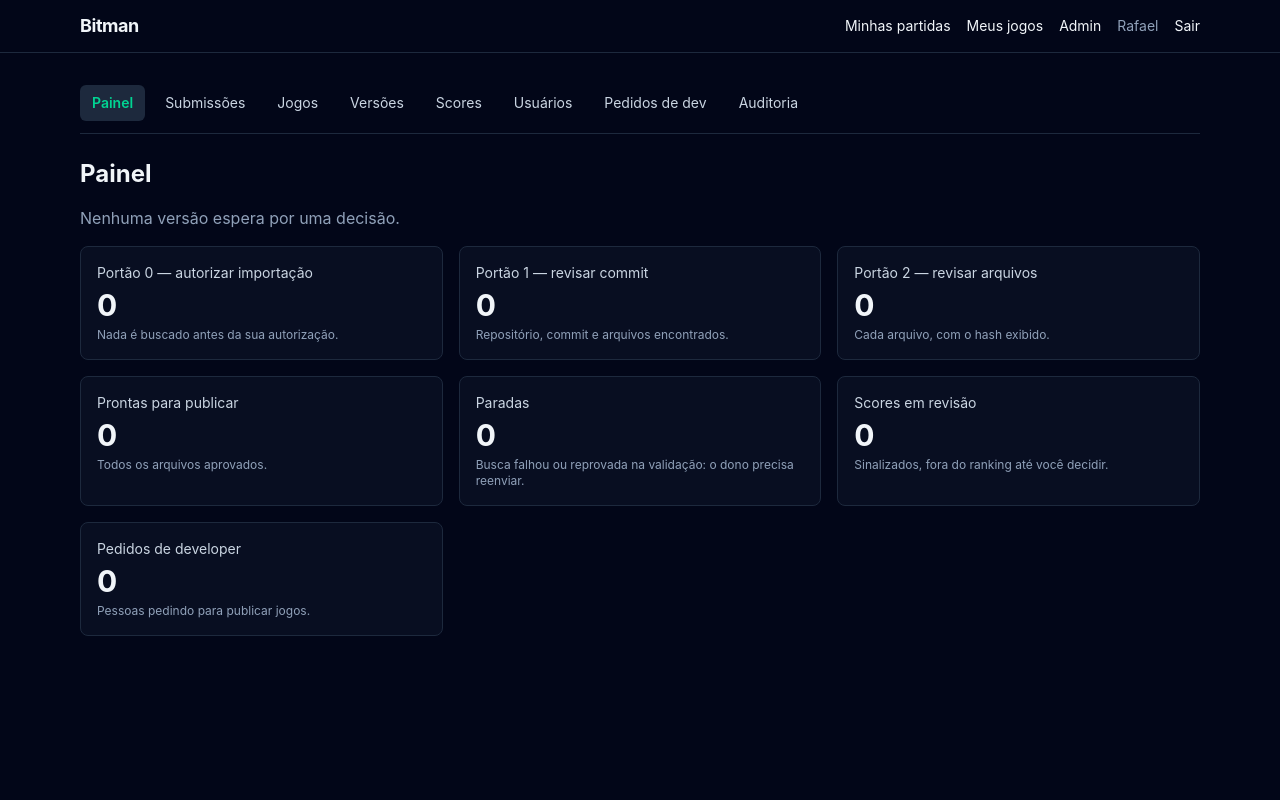
Scenario: VersionsPage › o menu da administração leva às versões
The image size is (1280, 800).
Click the link "Versões".
click(377, 102)  # box [350,94,404,111]
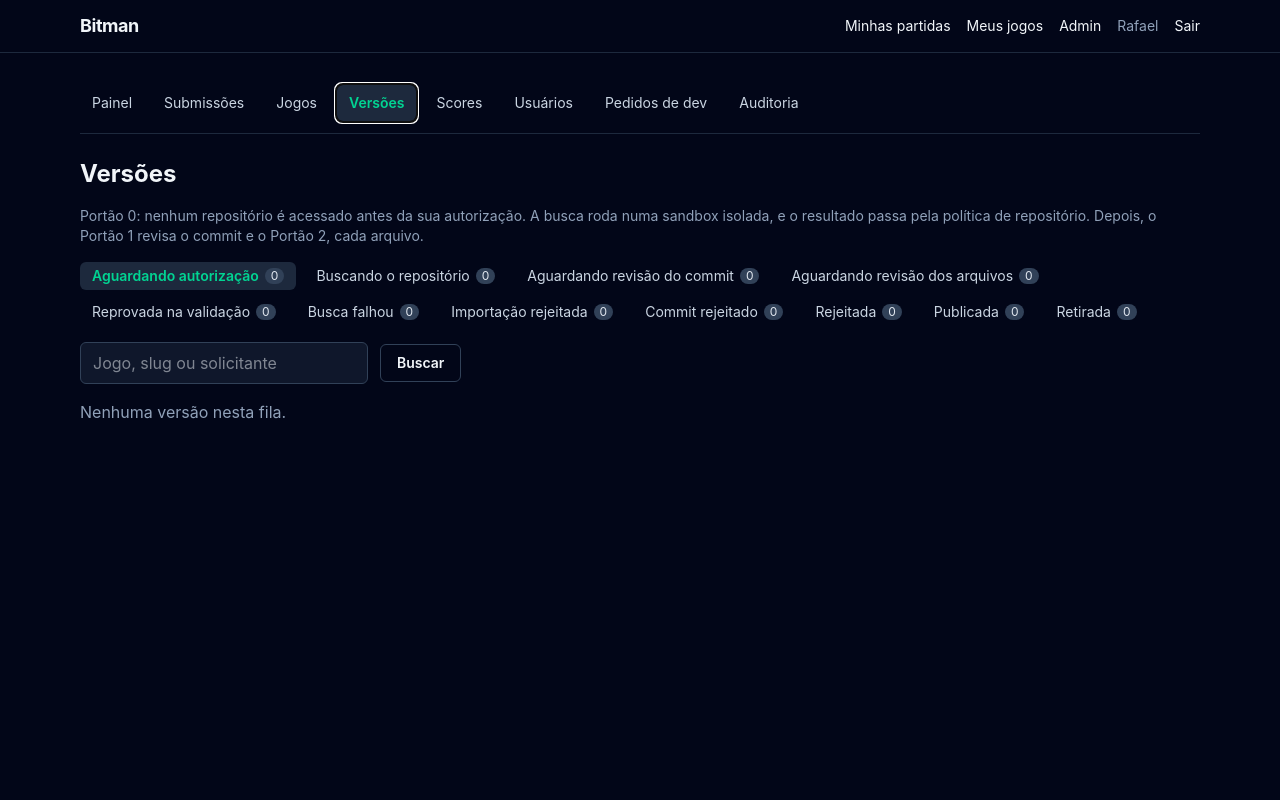
Check: the heading "Versões" is shown, box [80,159,176,188]
